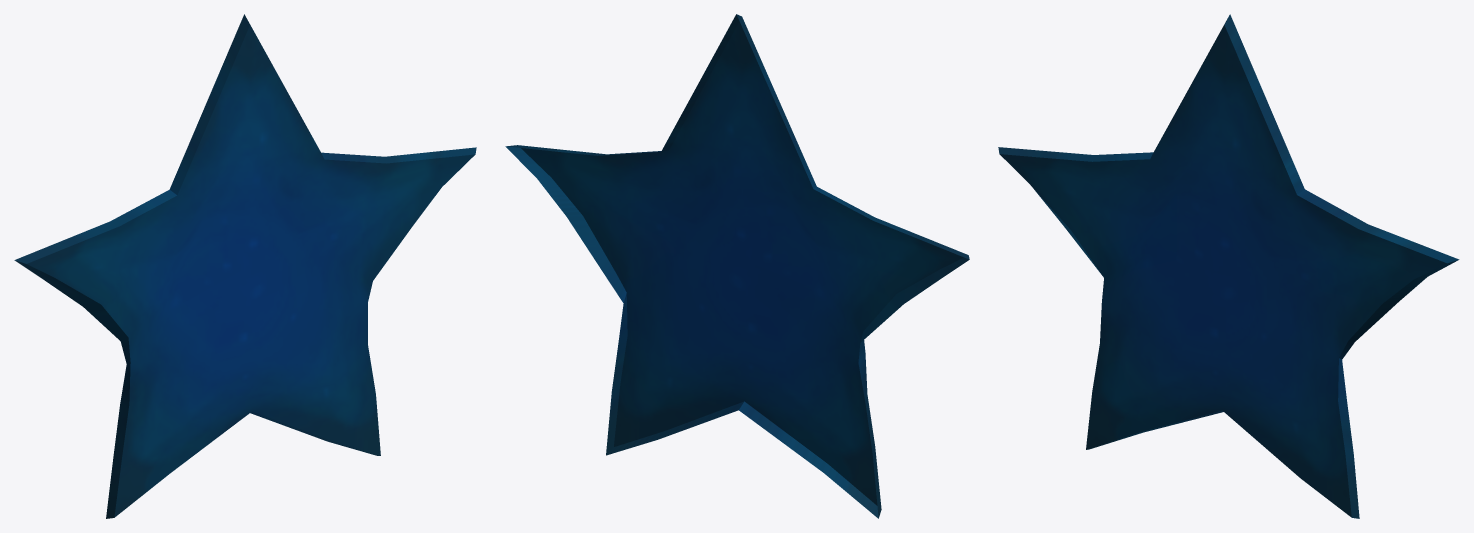
File: CardboardCutout_Star_Blue_Scaled.fbx
3 views of the same model, side by side, from view 1: azimuth 30°, elevation 25°; view 2: azimuth 150°, elevation 25°; view 3: azimuth 330°, elevation 25° (orthographic).
Parts seen in each view (by area): view 1: Star3; view 2: Star3; view 3: Star3.
Part boxes in pixels (x1,y1,x2,y2): Star3: (14, 14, 476, 518); Star3: (505, 14, 969, 518); Star3: (998, 14, 1459, 518).
Bounding box in the file's own units: 126 × 123 × 4.12.
